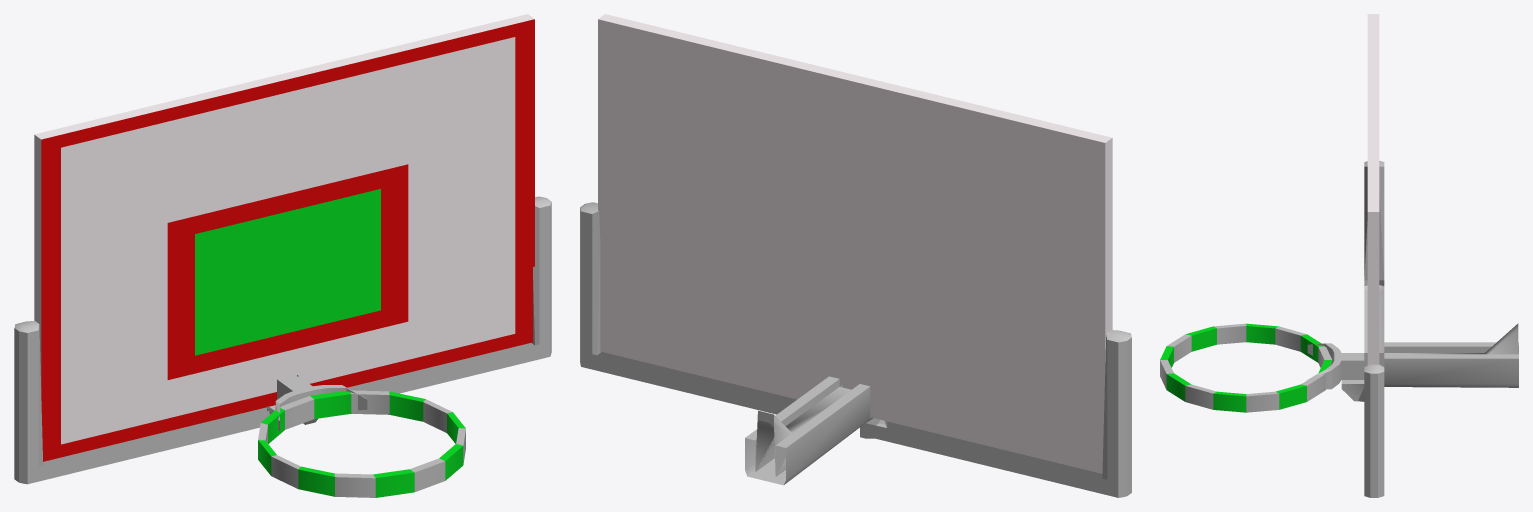
File: potav2.fbx
The picture shows the model from 3 angles, left to right: view 1: azimuth 30°, elevation 25°; view 2: azimuth 150°, elevation 25°; view 3: azimuth 270°, elevation 25°; orthographic projection. The views are drawn at different scales.
Visible parts, largest first — view 1: Plane; view 2: Plane; view 3: Plane.
Boxes of the visible parts, <box> form: Plane: <box>14,14,551,497</box>; Plane: <box>580,14,1131,497</box>; Plane: <box>1160,14,1518,497</box>.
Size of the model in its own units: 2.95 by 1.81 by 2.1.
